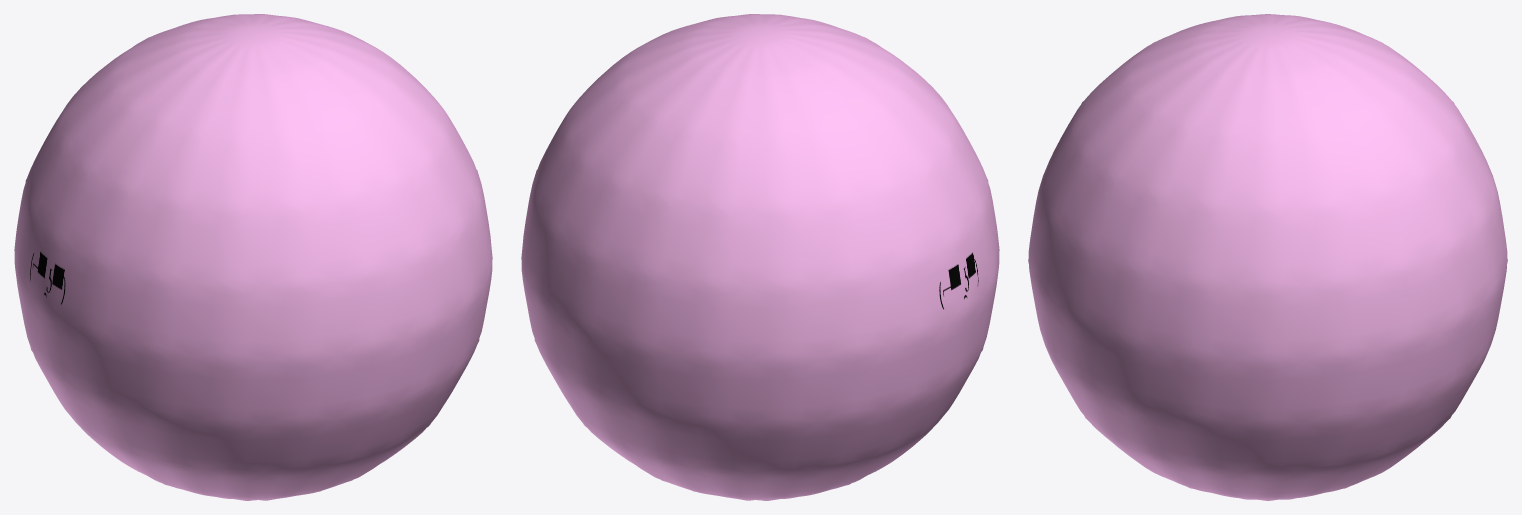
File: fakeBalloonFBX.fbx
3 renders of one model, left to right at view 1: azimuth 30°, elevation 25°; view 2: azimuth 150°, elevation 25°; view 3: azimuth 270°, elevation 25°, orthographic.
Parts seen in each view (by area): view 1: pSphere1; view 2: pSphere1; view 3: pSphere1.
Part boxes in pixels (bbox=[...]): pSphere1: bbox=[14, 14, 492, 500]; pSphere1: bbox=[521, 14, 999, 500]; pSphere1: bbox=[1028, 14, 1507, 500].
Bounding box in the file's own units: 2.58 × 2.64 × 2.58.
